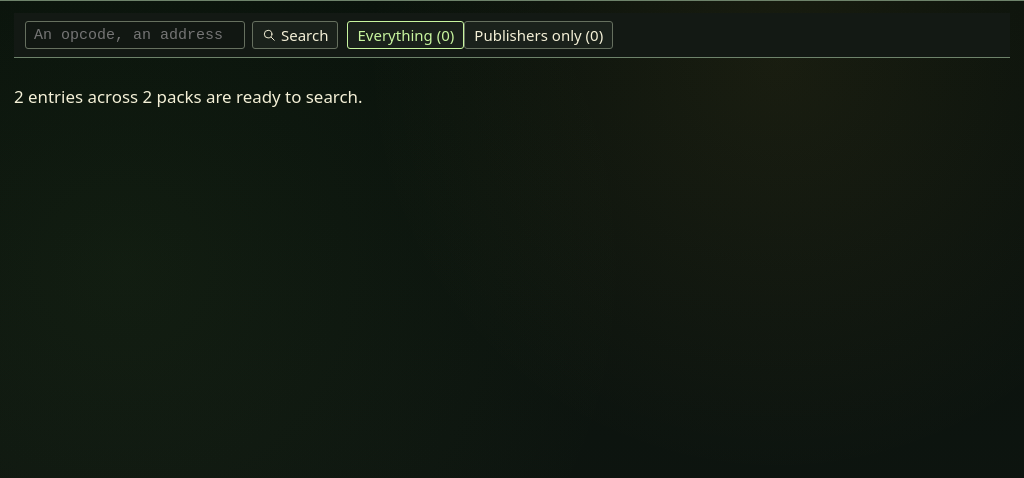
Test: being told what you are reading › can be narrowed to publishers only, and says how many that is
The width and height of the screenshot is (1024, 478).
In the search field named "Search imported documentation": [135, 35] box [25,21,245,49], type "OSWRCH"
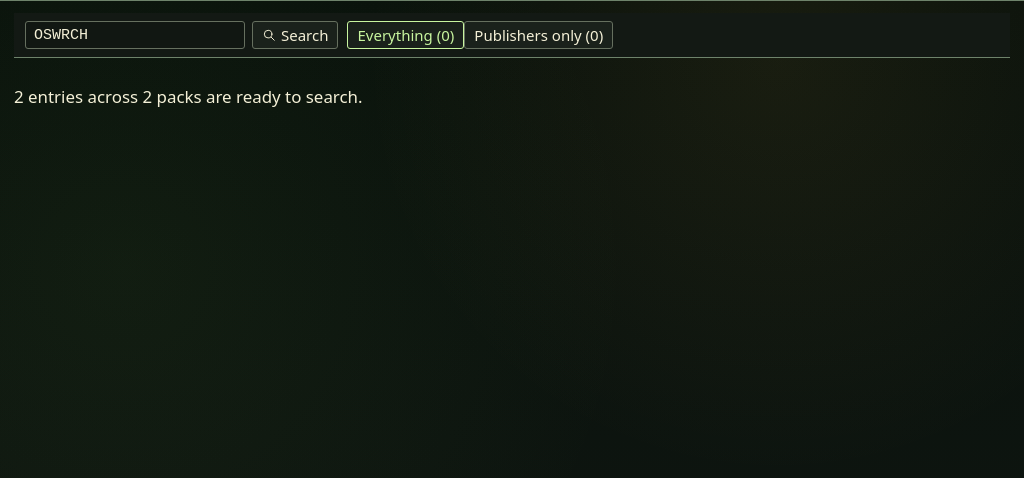
Submit the form, box [25,21,338,49]
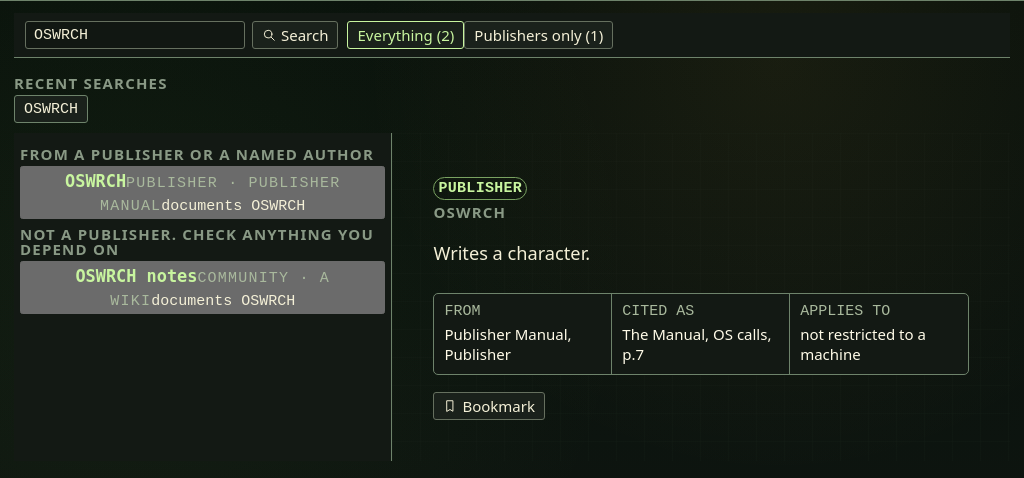
Click the button "Publishers only (1)": [539, 35] box [464,21,613,49]
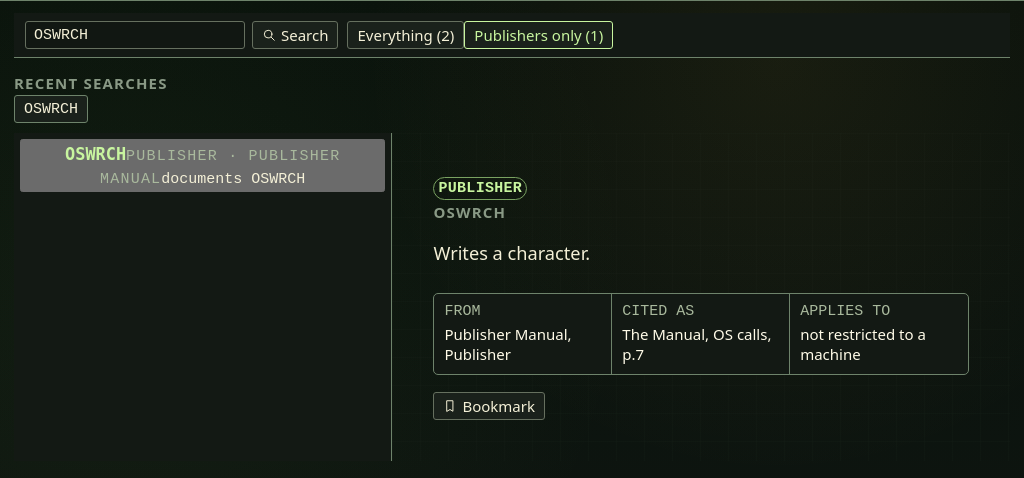
expect the option "OSWRCH notes" is gone: met
